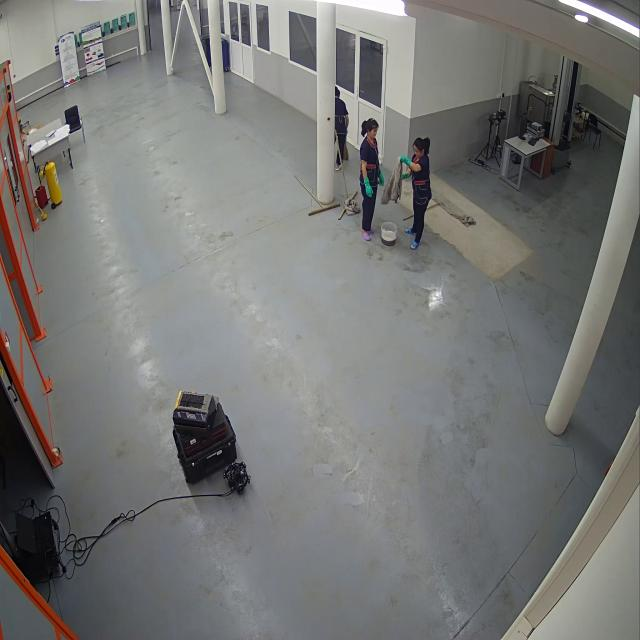NO-Hardhat: (413, 136, 431, 152), (334, 85, 346, 98), (366, 117, 378, 130)
Person: (397, 136, 432, 251), (358, 117, 385, 246), (335, 86, 350, 173)
